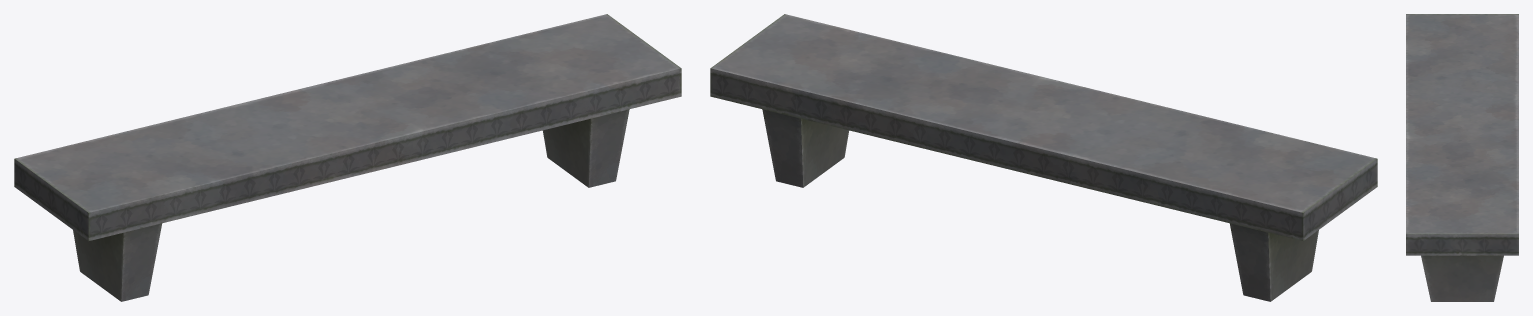
File: bench_stone.fbx
3 renders of one model, left to right at view 1: azimuth 30°, elevation 25°; view 2: azimuth 150°, elevation 25°; view 3: azimuth 270°, elevation 25°, orthographic. The views are drawn at different scales.
Parts seen in each view (by area): view 1: bench_stone; view 2: bench_stone; view 3: bench_stone.
Part boxes in pixels (box(x1,y1,x2,y2)): bench_stone: box(14, 14, 681, 301); bench_stone: box(710, 14, 1377, 301); bench_stone: box(1406, 14, 1518, 301).
Size of the model in its own units: 279 by 50.83 by 60.52.
